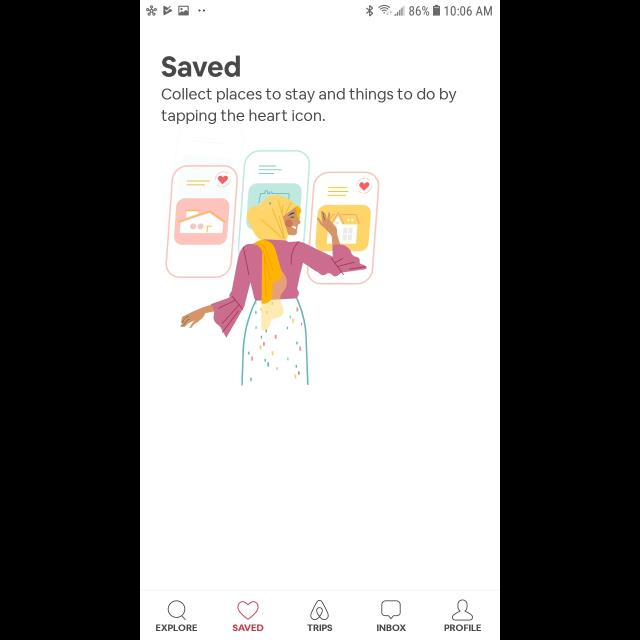icon: (451, 599, 473, 621), (237, 600, 259, 620), (381, 600, 401, 620), (168, 600, 186, 620)
image: (164, 150, 380, 386), (310, 600, 330, 620)
text: (161, 88, 457, 124), (162, 56, 242, 78), (156, 624, 198, 632), (444, 624, 482, 632), (232, 624, 264, 632), (377, 624, 407, 632), (307, 624, 333, 632)
uppertaskbar: (140, 1, 500, 18)
